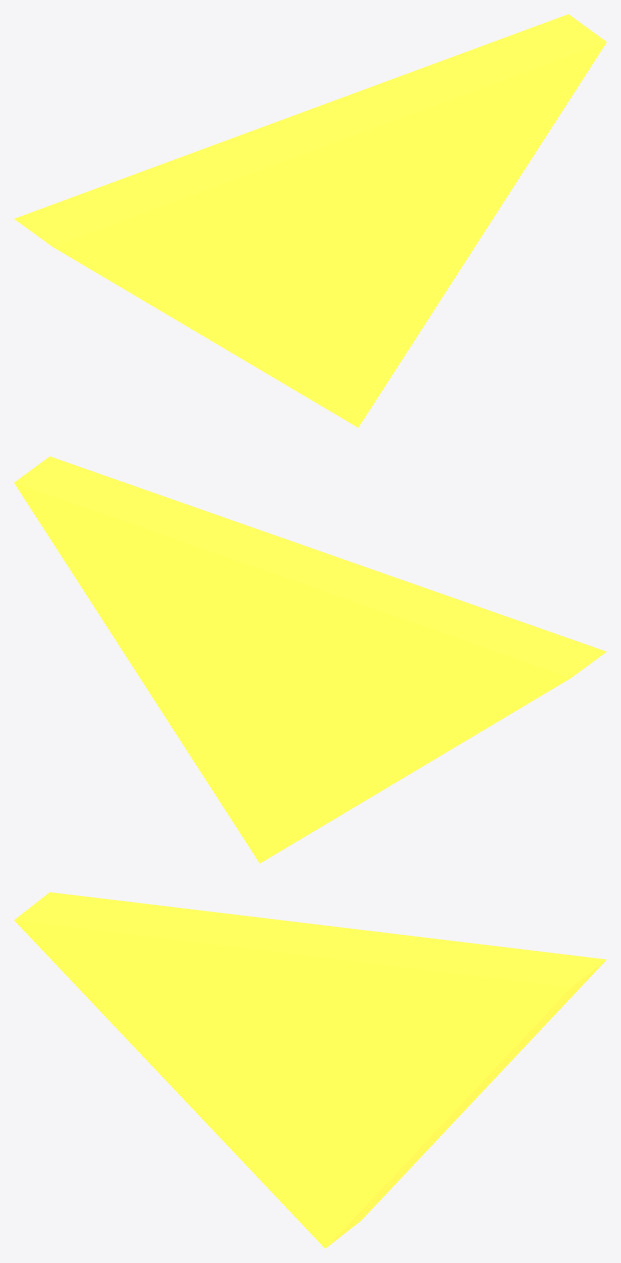
Rendered from arrow_02_selang2.fbx.
3 views of the same model, one above another, from view 1: azimuth 30°, elevation 25°; view 2: azimuth 150°, elevation 25°; view 3: azimuth 330°, elevation 25° (orthographic).
Visible parts, largest first — view 1: Cube.023; view 2: Cube.023; view 3: Cube.023.
Boxes of the visible parts, x1,y1,x2,y2 form: Cube.023: (14, 14, 606, 427); Cube.023: (14, 456, 606, 863); Cube.023: (14, 892, 606, 1248).
Bounding box in the file's own units: 5.81 × 3.23 × 0.7554.
